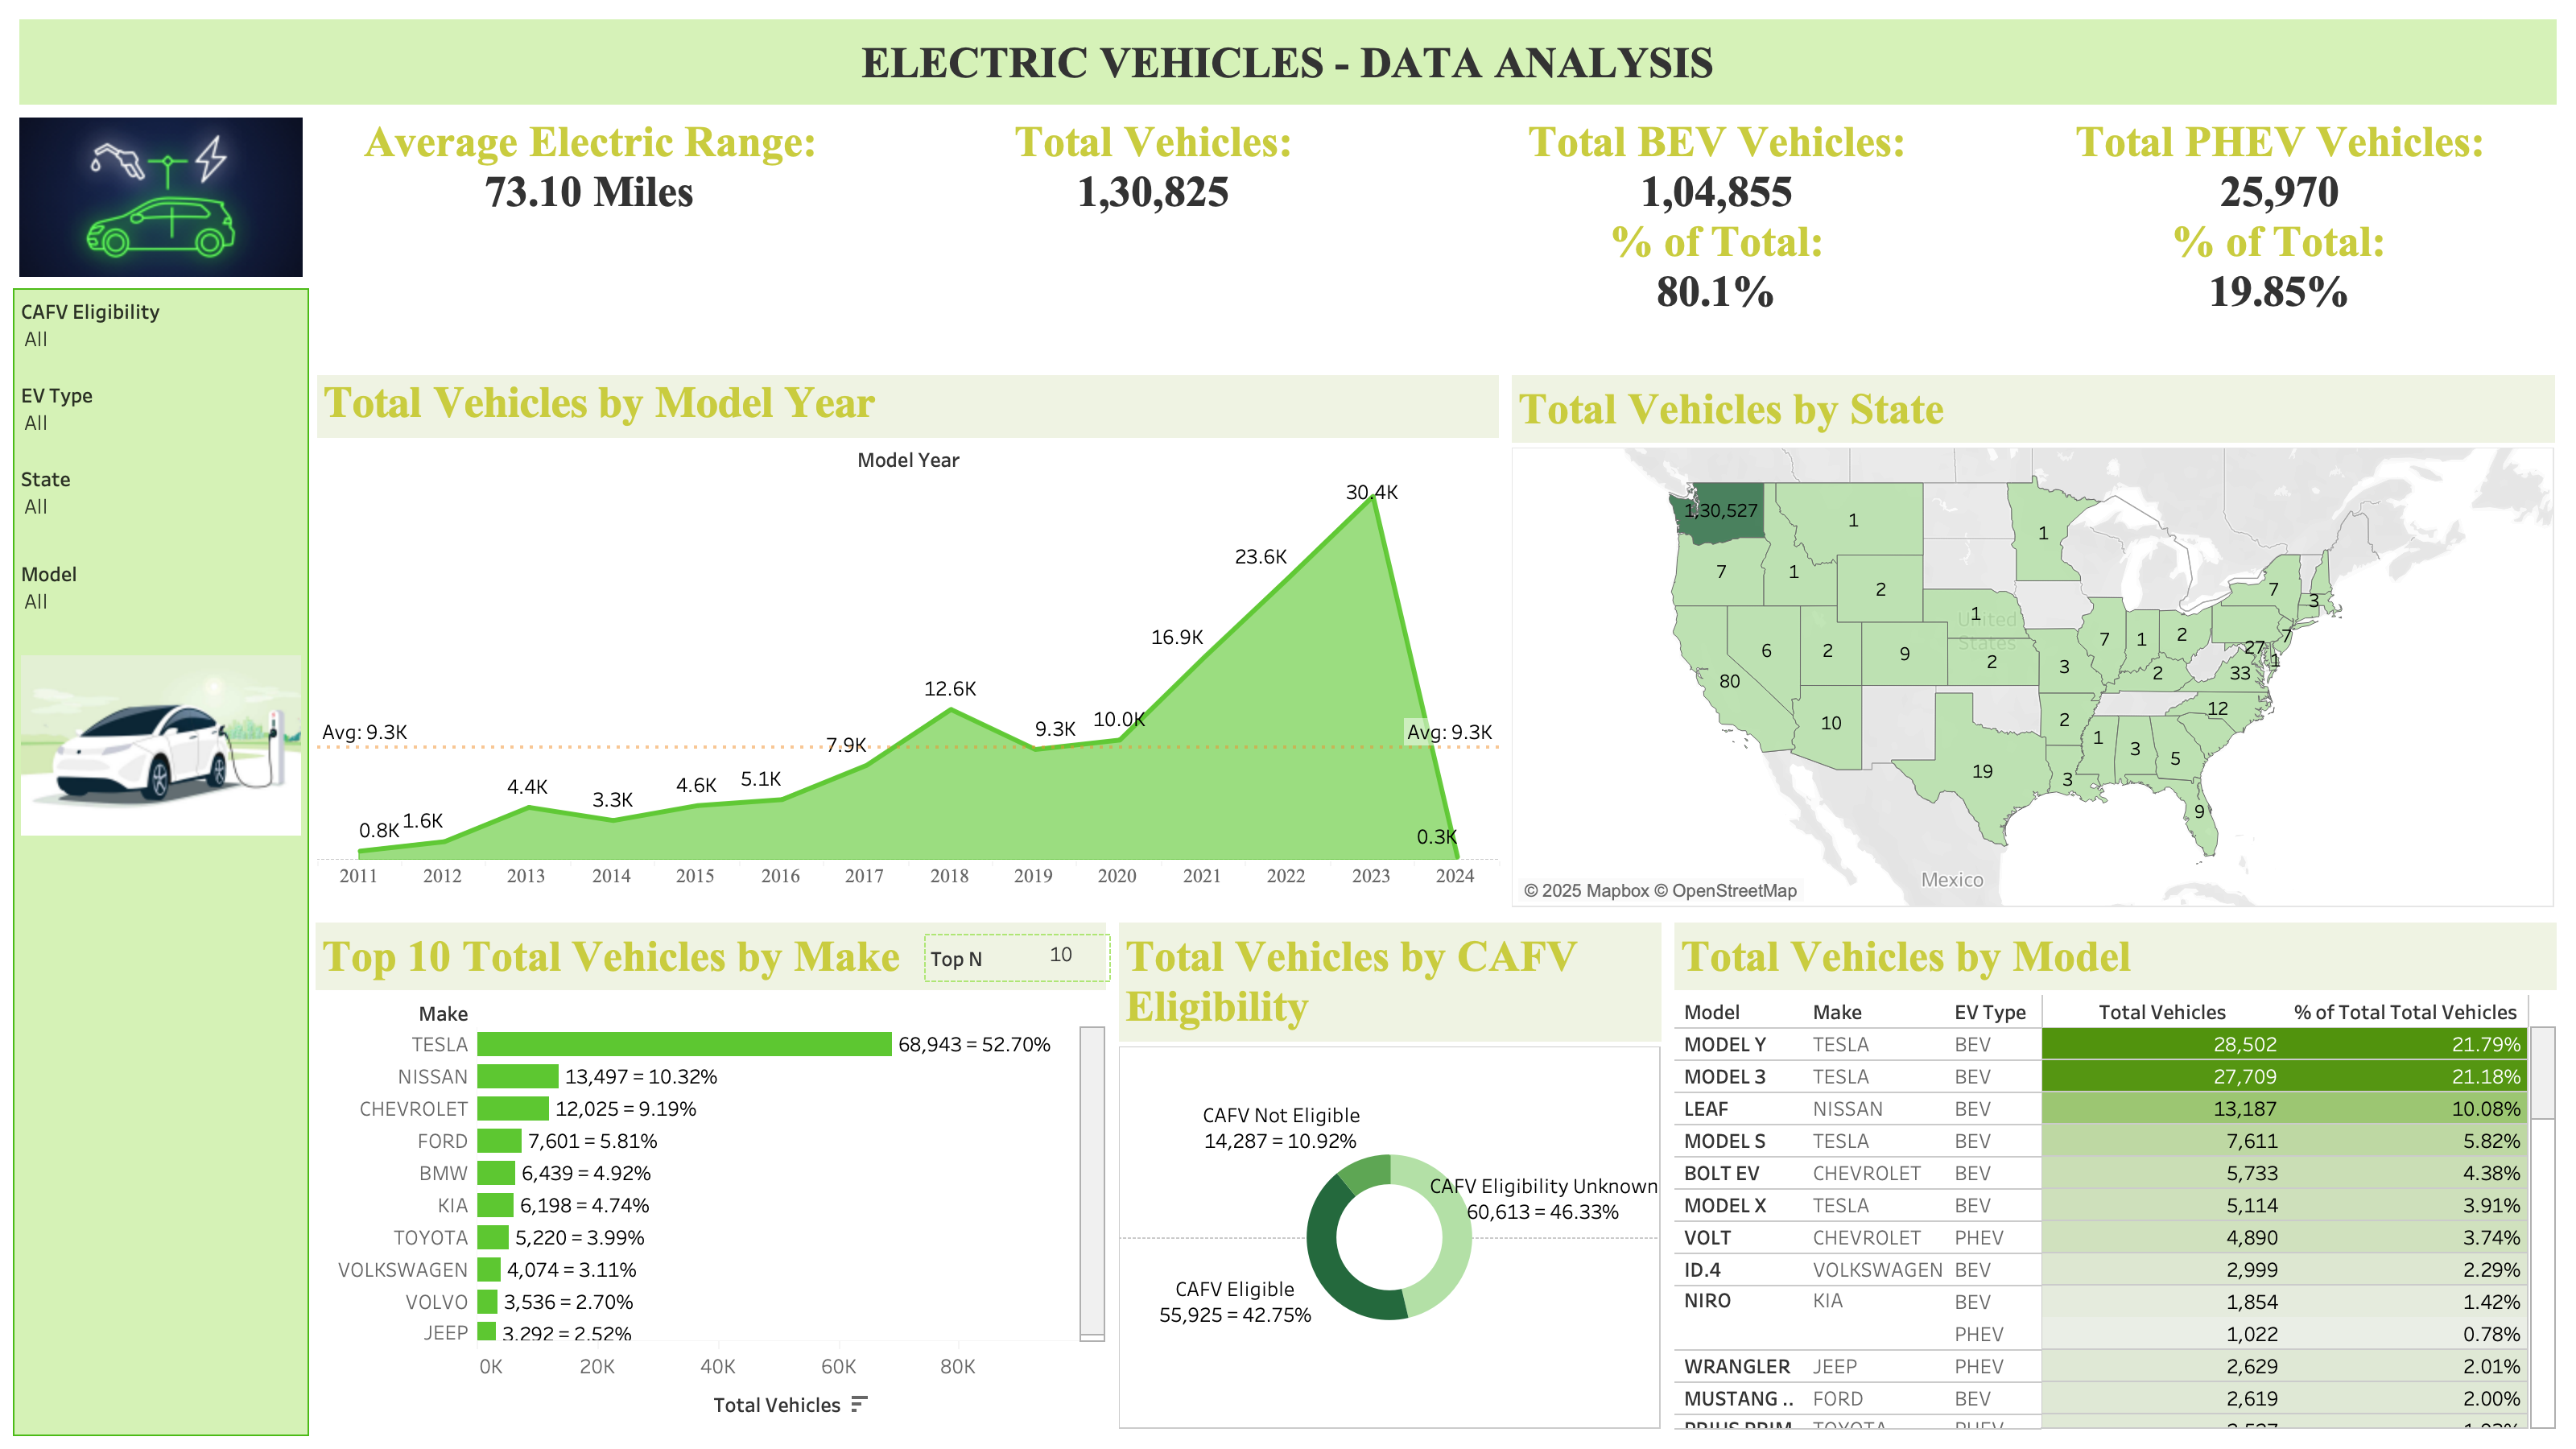

The dashboard page shown, as its layout file describes it:
{"tool":"tableau","page":{"name":"Dashboard 1","canvas":[1600,900],"ordinal":0},"visuals":[{"type":"title","box":[8,8,1584,61]},{"type":"image","param":"/Users/parikh/Desktop/ElectricVehicle_Tableau/ev-vs-hev-vs-phev-what-are-the-typ","box":[8,69,184,109.9]},{"type":"worksheet","title":"Average Electric Range","mark":"Automatic","box":[192,69,350,159]},{"type":"worksheet","title":"Total Vehicles","mark":"Automatic","box":[542,69,350,159]},{"type":"worksheet","title":"Total BEV Vehicles","mark":"Automatic","box":[892,69,350,159]},{"type":"worksheet","title":"Total PHEV Vehicles","mark":"Automatic","box":[1242,69,350,159]},{"type":"filter","title":"Total Vehicles by Model Year","param":"[federated.09fsv5k1j0qqg21h177fl1o84j2j].[none:Clean Alternative Fuel Vehicle (C","box":[9,179.9,182,52]},{"type":"worksheet","title":"Total Vehicles by Model Year","mark":"Area","rows":["Calculation_5624292279142449152","Calculation_5624292279142449152"],"cols":["Model Year"],"box":[193,229,742,339]},{"type":"worksheet","title":"Total Vehicles by State","mark":"Multipolygon","box":[935,229,656,339]},{"type":"filter","title":"Total Vehicles by Model Year","param":"[federated.09fsv5k1j0qqg21h177fl1o84j2j].[none:Electric Vehicle Type:nk]","box":[9,231.9,182,52]},{"type":"filter","title":"Total Vehicles by Model Year","param":"[federated.09fsv5k1j0qqg21h177fl1o84j2j].[none:State:nk]","box":[9,283.9,182,59]},{"type":"filter","title":"Total Vehicles by Model Year","param":"[federated.09fsv5k1j0qqg21h177fl1o84j2j].[none:Model:nk]","box":[9,342.9,182,60]},{"type":"image","param":"/Users/parikh/Desktop/ElectricVehicle_Tableau/ev2.jpg","box":[9,402.9,182,124]},{"type":"worksheet","title":"Top 10 Total Vehicles by Make","mark":"Automatic","rows":["Make"],"cols":["Calculation_5624292279142449152"],"box":[192,569,499,323]},{"type":"worksheet","title":"Total Vehicles by CAFV Eligibility ","mark":"Pie","rows":["Calculation_5624292279238262798","Calculation_5624292279238352912"],"box":[691,569,345,323]},{"type":"worksheet","title":"Total Vehicles by Model","mark":"Square","rows":["Model","Make","Electric Vehicle Type"],"box":[1036,569,556,323]},{"type":"parameter","param":"[Parameters].[Parameter 1]","box":[574,580,116,30]}]}

Visuals, with their boxes in screenshot pixels (x1, y1, x2, y2), scaled from the page's 1600x900 canvas onto the 2576x1449 screenshot:
title: (left=13, top=13, right=2563, bottom=111)
image: (left=13, top=111, right=309, bottom=288)
"Average Electric Range" worksheet: (left=309, top=111, right=873, bottom=367)
"Total Vehicles" worksheet: (left=873, top=111, right=1436, bottom=367)
"Total BEV Vehicles" worksheet: (left=1436, top=111, right=2000, bottom=367)
"Total PHEV Vehicles" worksheet: (left=2000, top=111, right=2563, bottom=367)
"Total Vehicles by Model Year" filter: (left=14, top=290, right=308, bottom=374)
"Total Vehicles by Model Year" worksheet (Area marks): (left=311, top=369, right=1505, bottom=914)
"Total Vehicles by State" worksheet (Multipolygon marks): (left=1505, top=369, right=2562, bottom=914)
"Total Vehicles by Model Year" filter: (left=14, top=374, right=308, bottom=457)
"Total Vehicles by Model Year" filter: (left=14, top=457, right=308, bottom=552)
"Total Vehicles by Model Year" filter: (left=14, top=552, right=308, bottom=649)
image: (left=14, top=649, right=308, bottom=848)
"Top 10 Total Vehicles by Make" worksheet: (left=309, top=916, right=1113, bottom=1436)
"Total Vehicles by CAFV Eligibility " worksheet (Pie marks): (left=1113, top=916, right=1668, bottom=1436)
"Total Vehicles by Model" worksheet (Square marks): (left=1668, top=916, right=2563, bottom=1436)
parameter: (left=924, top=934, right=1111, bottom=982)
